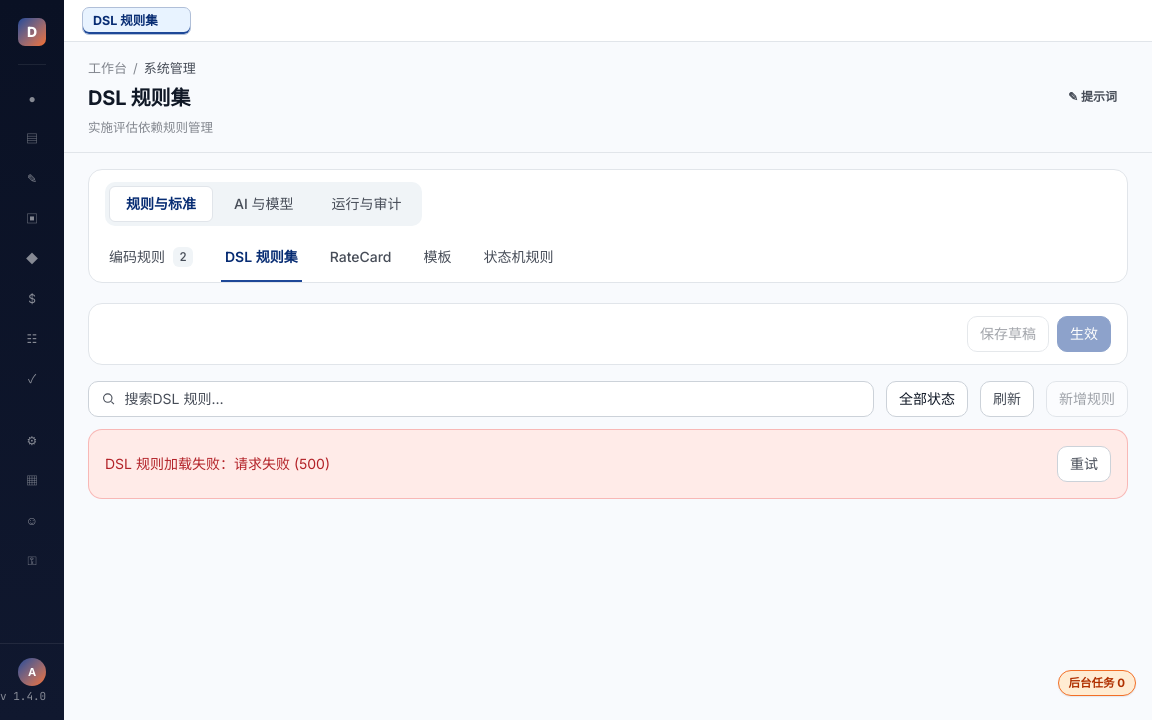
it: DSL 规则统一列表 › 加载失败可重试，保存失败不丢本地编辑
The image size is (1152, 720).
Check: the message shows "DSL 规则加载失败", box top-left (105, 454), bottom-right (330, 472)
What coordinates should you click on to do the following:
click the button "重试"
I would click on:
 (1084, 464)
Its box is top-left (1057, 446), bottom-right (1111, 482).
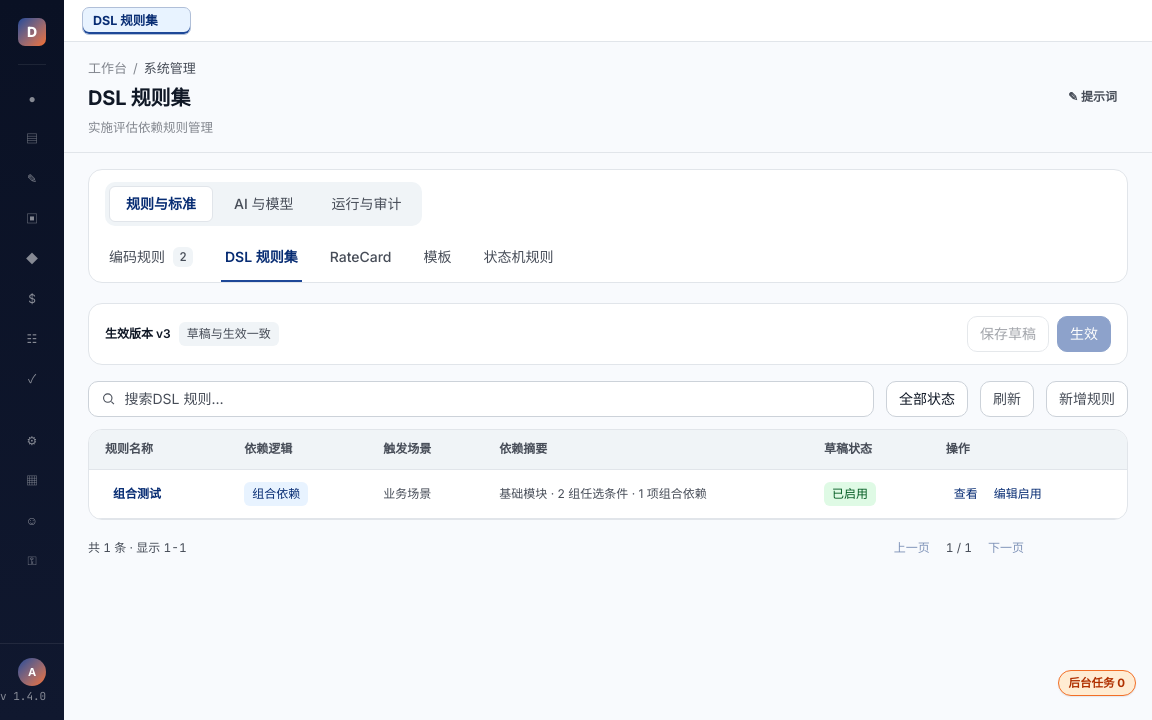
Check: the table named "DSL 规则列表" is shown, box top-left (89, 430), bottom-right (1127, 519)
What coordinates should you click on to do the following:
click the button with aria-label "编辑启用 组合测试"
I would click on:
 (1018, 494)
Its box is top-left (986, 478), bottom-right (1050, 510).
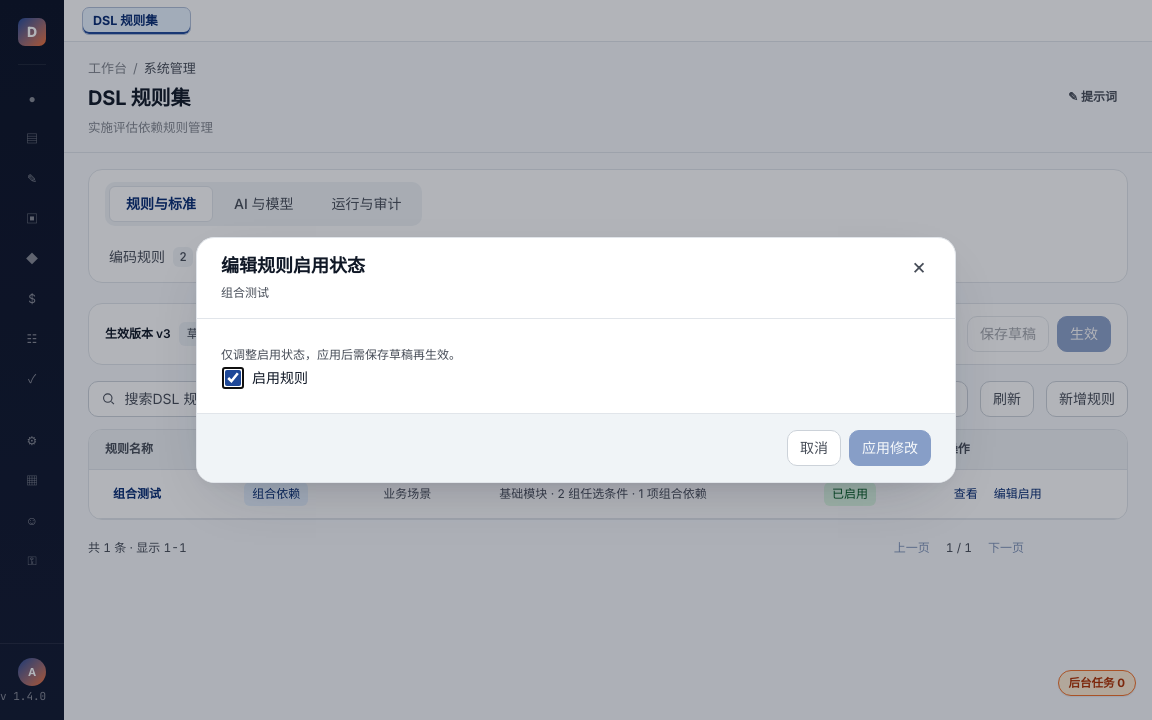
What coordinates should you click on to do the following:
click the checkbox labelled "启用规则"
I would click on:
 (233, 378)
Its box is top-left (225, 370), bottom-right (241, 386).
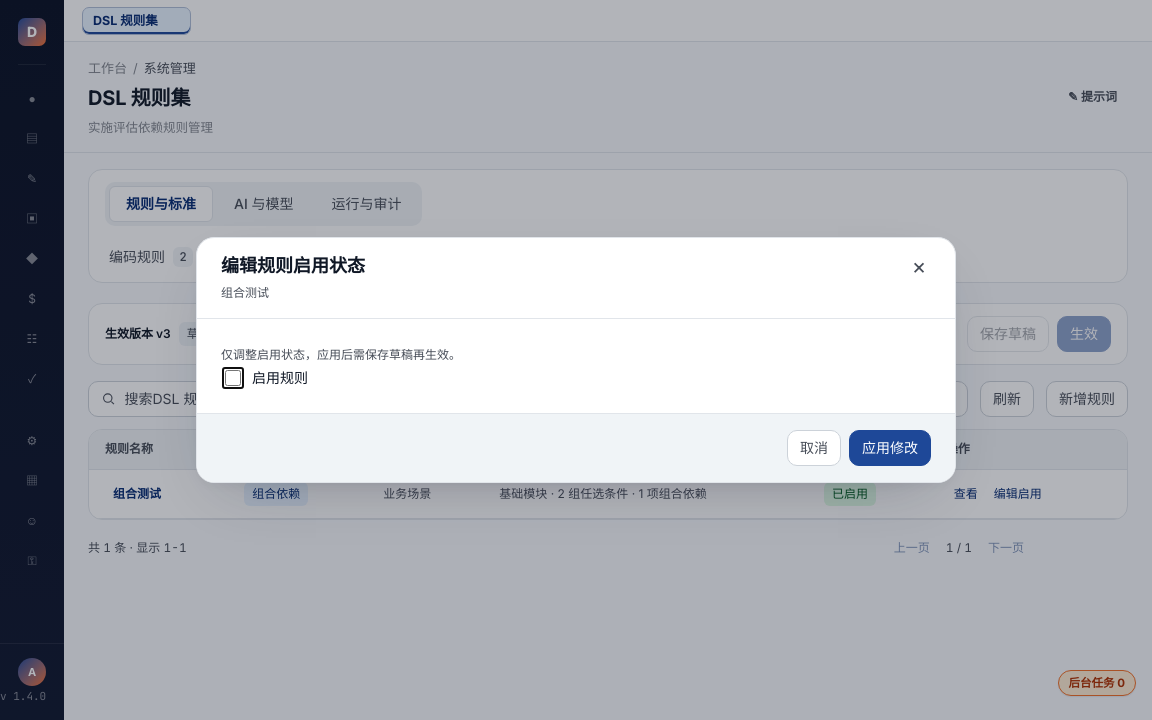
What coordinates should you click on to do the following:
click the button "应用修改"
I would click on:
 (890, 448)
Its box is top-left (849, 430), bottom-right (931, 466).
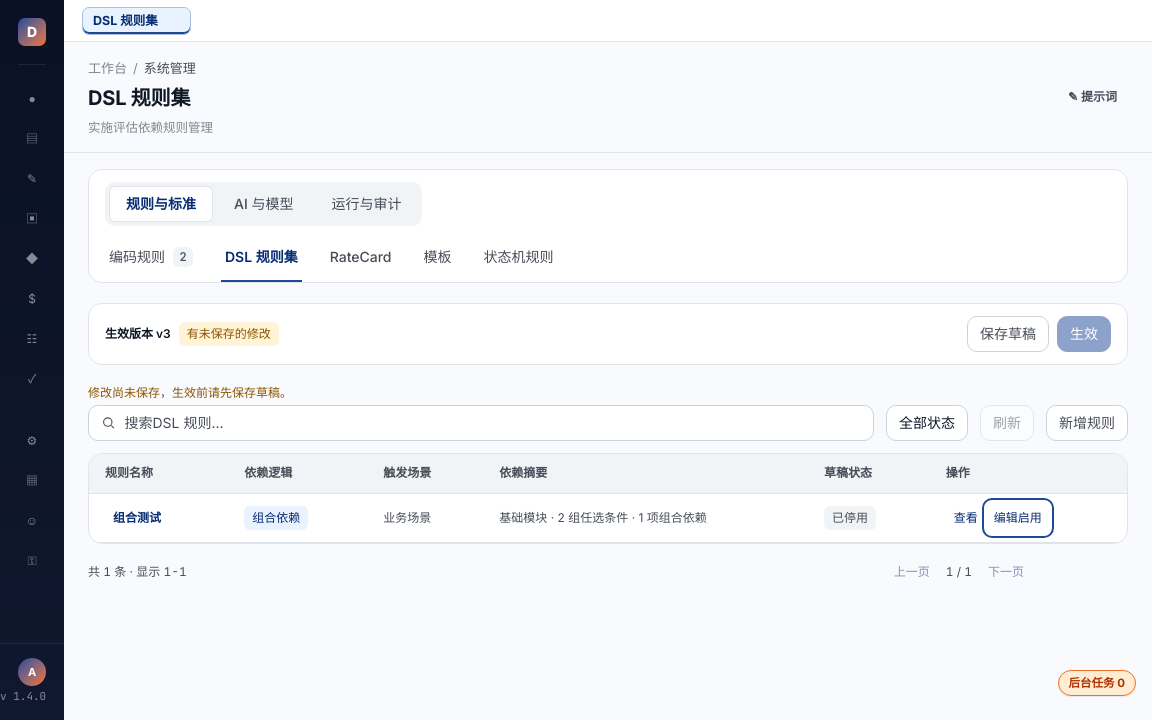
What coordinates should you click on to do the following:
click the button "保存草稿"
I would click on:
 (1008, 334)
Its box is top-left (967, 316), bottom-right (1049, 352).
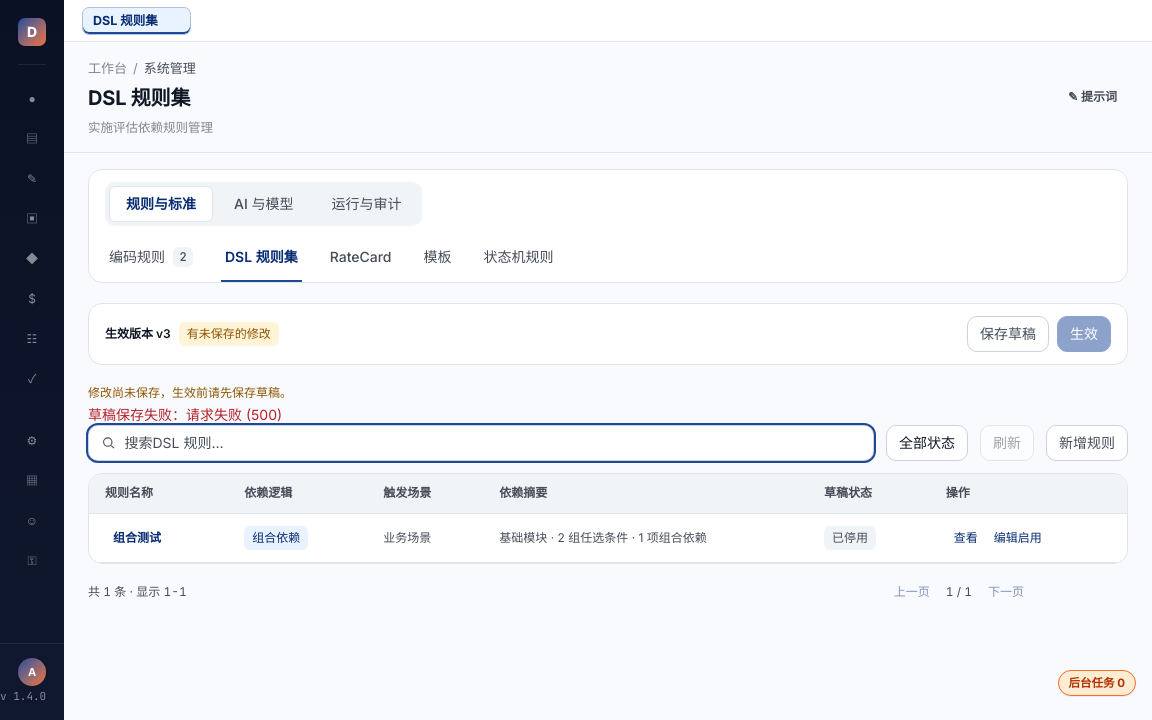
Check: the text "有未保存的修改" is shown, box top-left (179, 322), bottom-right (279, 346)
Check: the text "已停用" is shown, box top-left (824, 526), bottom-right (876, 550)
Check: the text "草稿保存失败：请求失败 (500)" is shown, box top-left (88, 406), bottom-right (282, 422)
